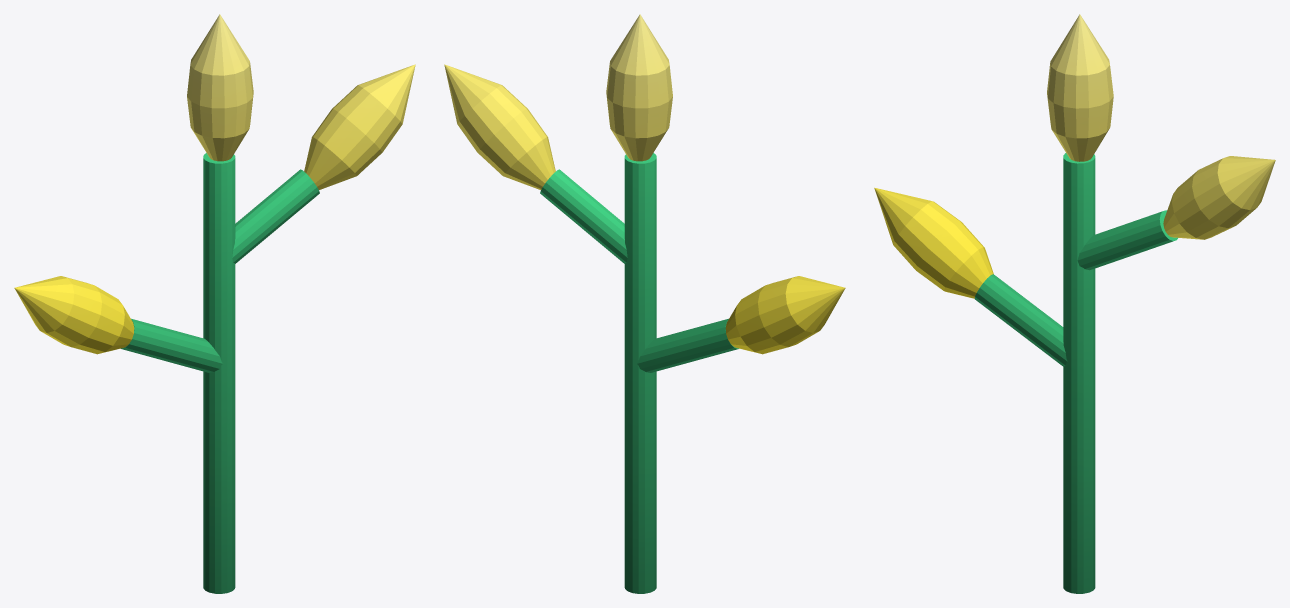
File: corn_sm.obj
3 renders of one model, left to right at view 1: azimuth 30°, elevation 25°; view 2: azimuth 150°, elevation 25°; view 3: azimuth 330°, elevation 25°, orthographic.
Visible parts, largest first — view 1: corn_sm; view 2: corn_sm; view 3: corn_sm.
Boxes of the visible parts, x1=… form: corn_sm: x1=14, y1=14, x2=415, y2=593; corn_sm: x1=444, y1=14, x2=845, y2=593; corn_sm: x1=874, y1=14, x2=1275, y2=593.
Bounding box in the file's own units: 1.03 × 1.41 × 0.1504.
